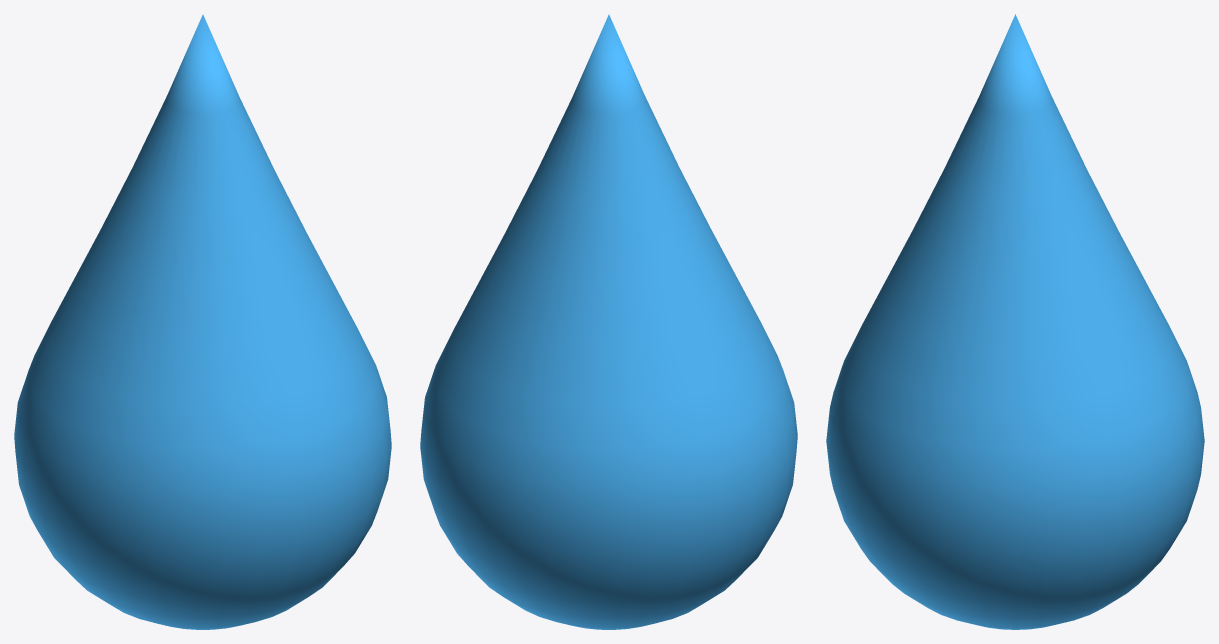
Rendered from GoogleHacathon_WaterDrop_v0_111623.fbx.
The picture shows the model from 3 angles, left to right: view 1: azimuth 30°, elevation 25°; view 2: azimuth 150°, elevation 25°; view 3: azimuth 270°, elevation 25°; orthographic projection.
Visible parts, largest first — view 1: waterdrop; view 2: waterdrop; view 3: waterdrop.
Part boxes in pixels (left/top/right/bottom): waterdrop: left=14, top=14, right=391, bottom=629; waterdrop: left=420, top=14, right=797, bottom=629; waterdrop: left=826, top=14, right=1204, bottom=629.
Bounding box in the file's own units: 20 × 34.9 × 20.
